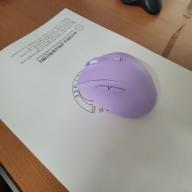mouse: (76, 51, 158, 117)
